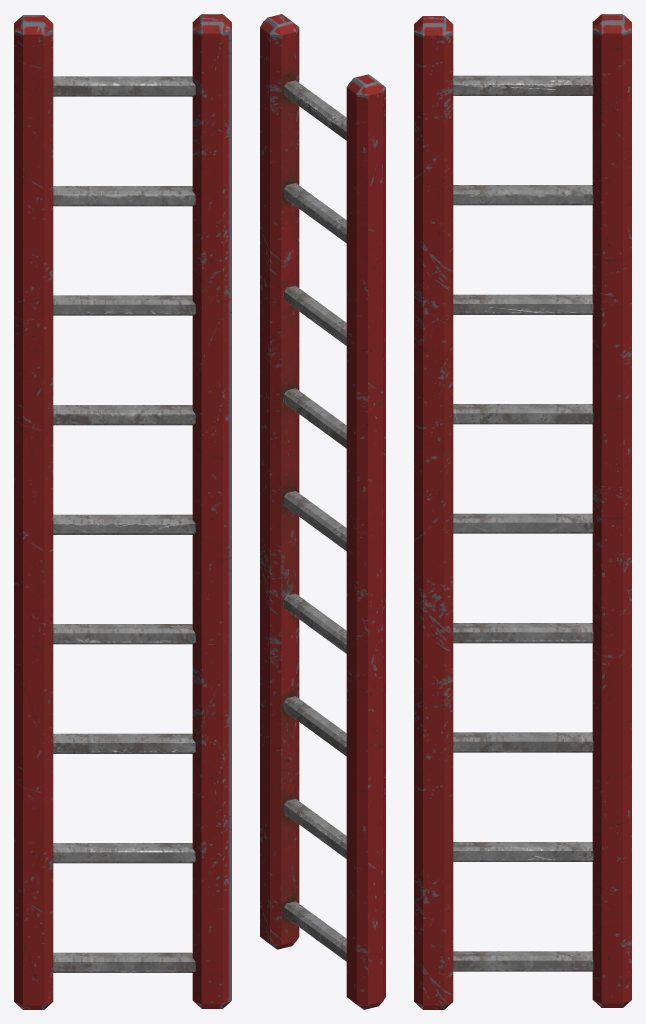
The model's file is Ladder.fbx.
3 renders of one model, left to right at view 1: azimuth 90°, elevation 25°; view 2: azimuth 210°, elevation 25°; view 3: azimuth 270°, elevation 25°, orthographic. The views are drawn at different scales.
Parts seen in each view (by area): view 1: Cube, Cube.001; view 2: Cube, Cube.001; view 3: Cube, Cube.001.
Part boxes in pixels (bbox=[...]): Cube: bbox=[14, 14, 231, 1009]; Cube.001: bbox=[53, 76, 195, 972]; Cube: bbox=[260, 14, 385, 1009]; Cube.001: bbox=[284, 80, 346, 961]; Cube: bbox=[414, 14, 631, 1009]; Cube.001: bbox=[453, 75, 593, 971].
Size of the model in its own units: 36.49 by 1000 by 200.
